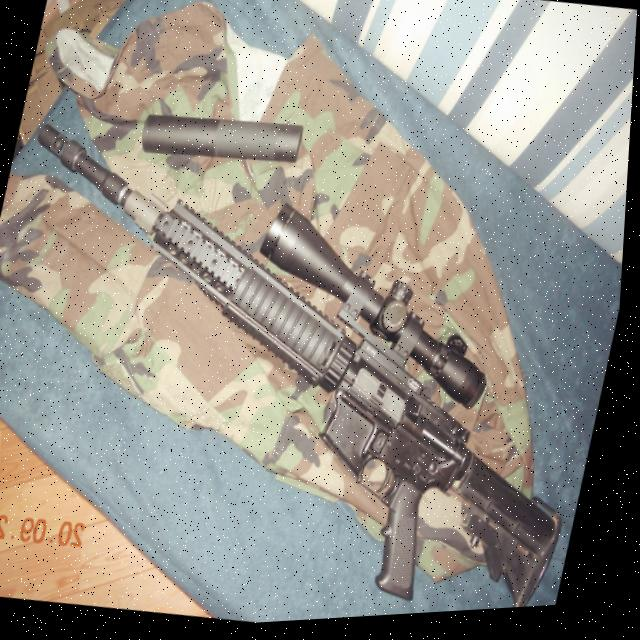firearm: (0, 92, 634, 640)
